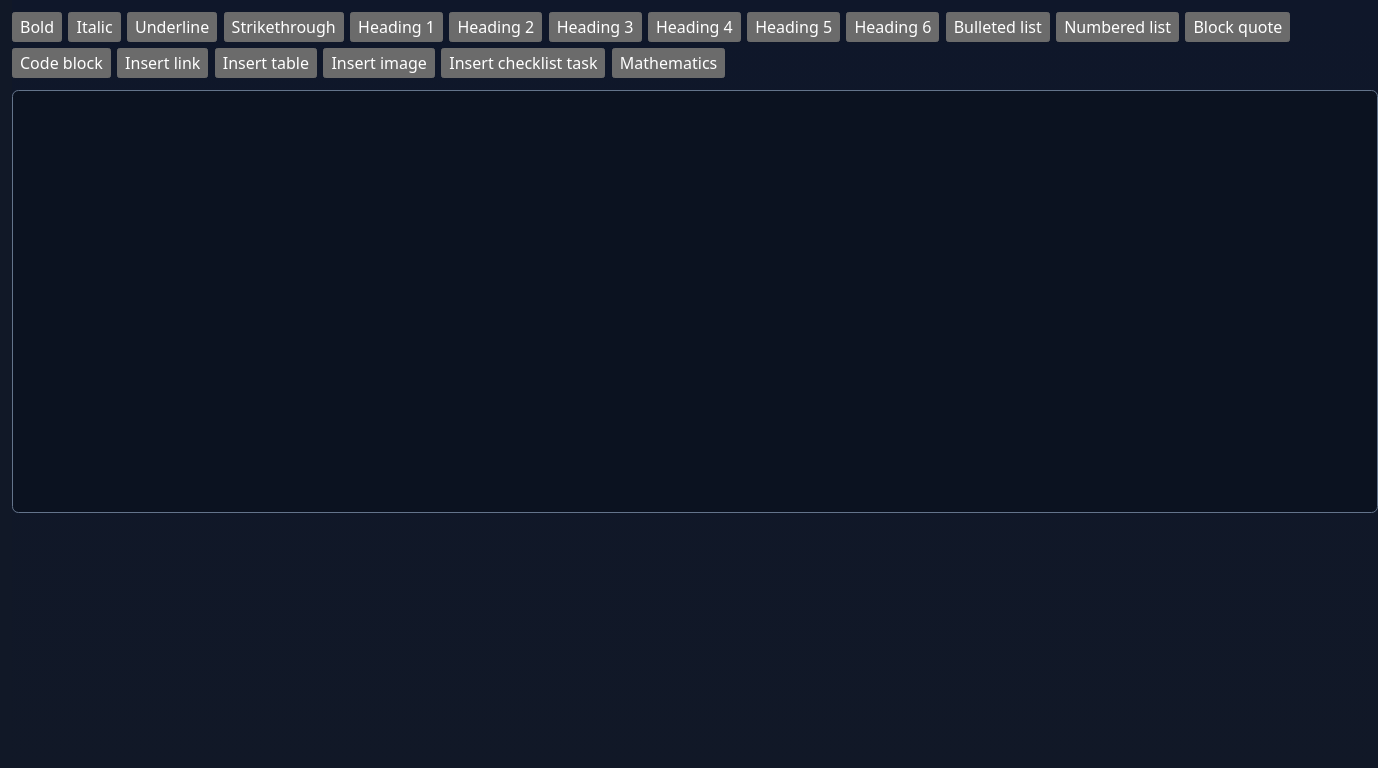
Test case: mathematics toolbar › refuses unparseable math instead of inserting it
Click the button "Mathematics" at (669, 63), box [612, 48, 725, 78]
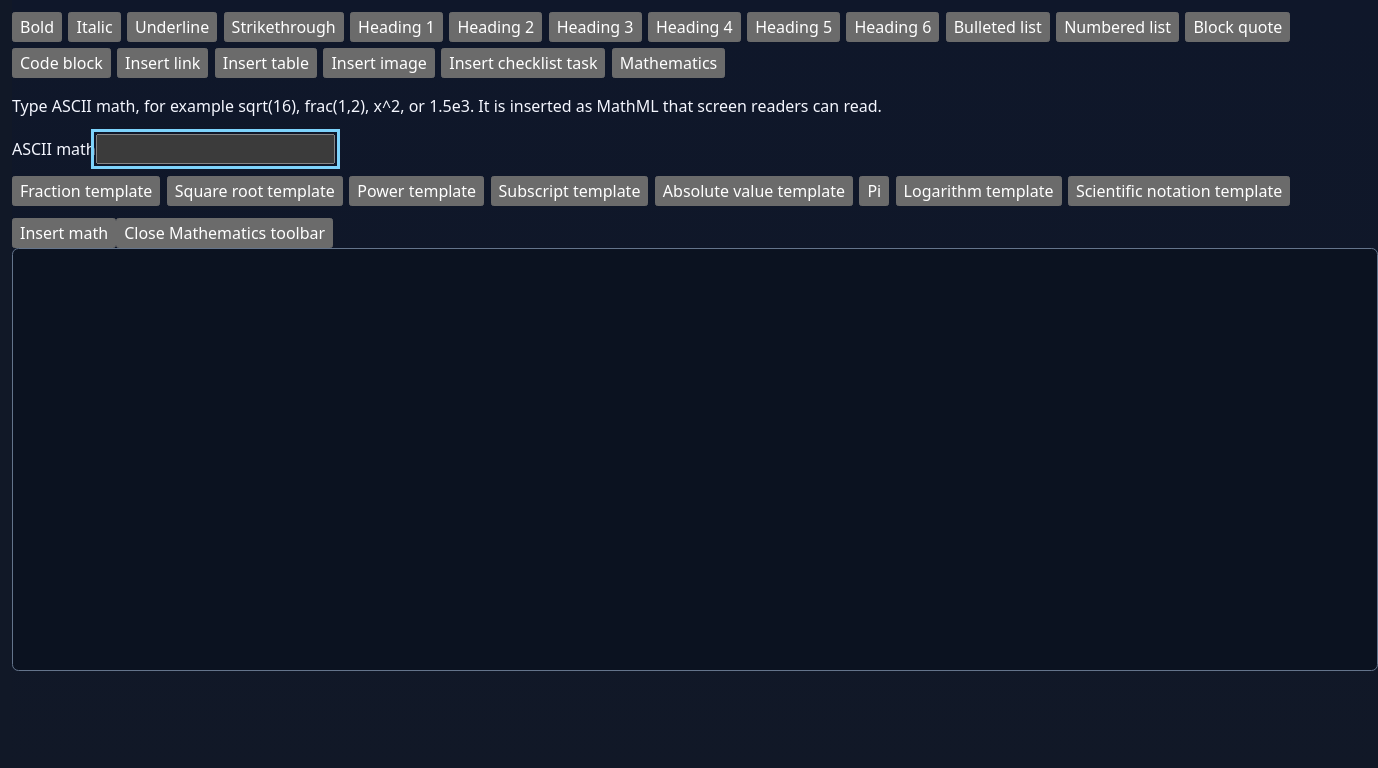
Type "sqrt(" into the field labelled "ASCII math" at (215, 149), box [96, 134, 335, 164]
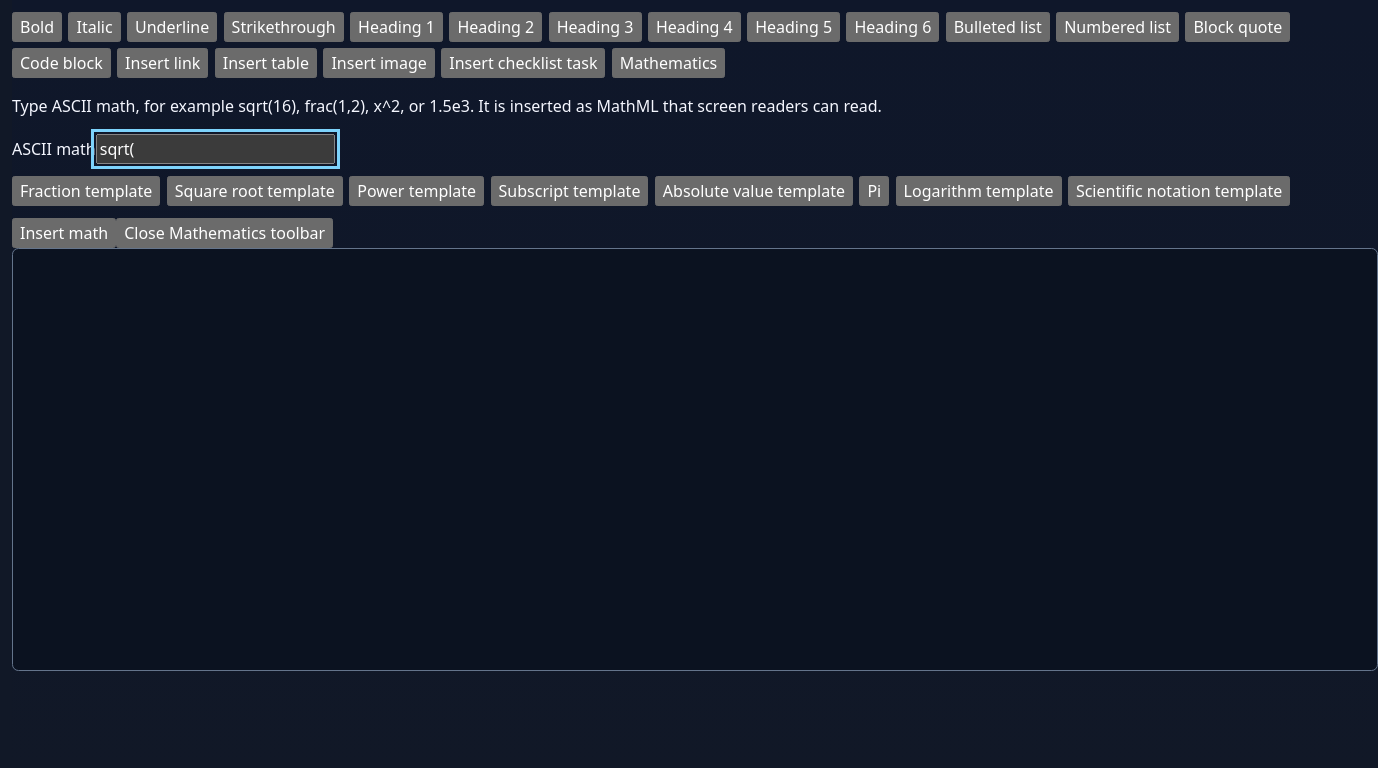
Click the button "Insert math" at (64, 233), box [12, 218, 116, 248]
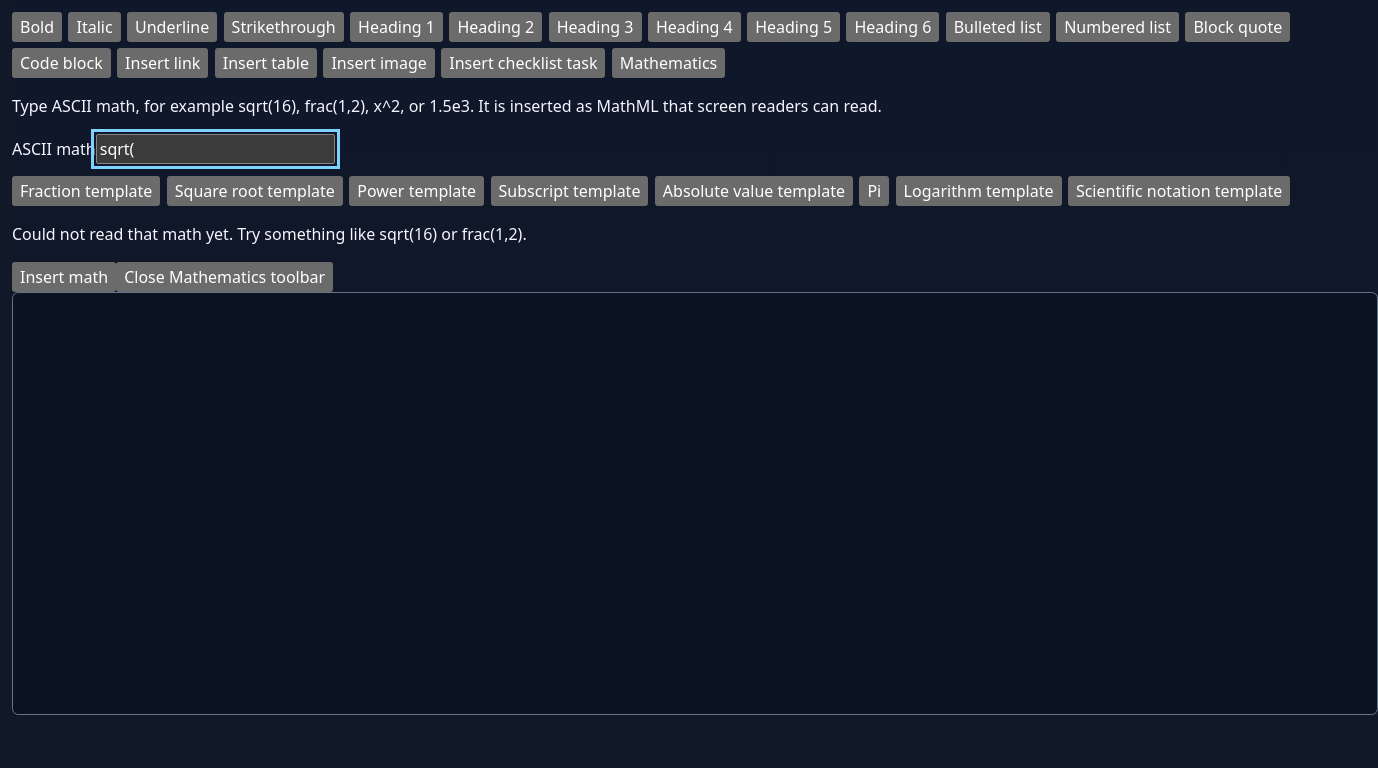
Expected: the message "Could not read that math yet. Try something like sqrt(16) or frac(1,2)." is shown, [12, 223, 527, 245]
